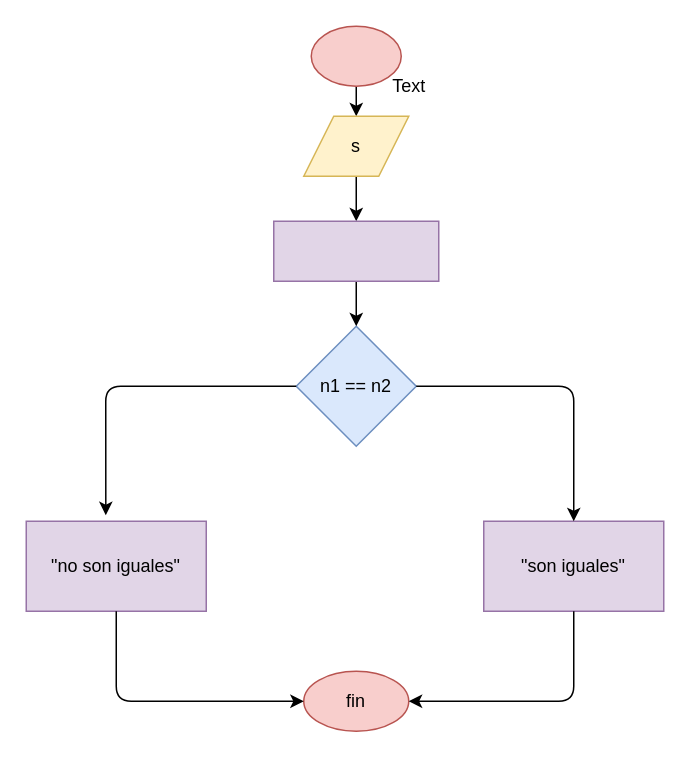
Image size: 690x758. Some labels were removed from this diagram. The shapes that lost their labels are listed below. From the top down, each one's centre as x and y in pixels, then its label:
At pixel 355 55: "inicio".
At pixel 355 250: "n1 =".
